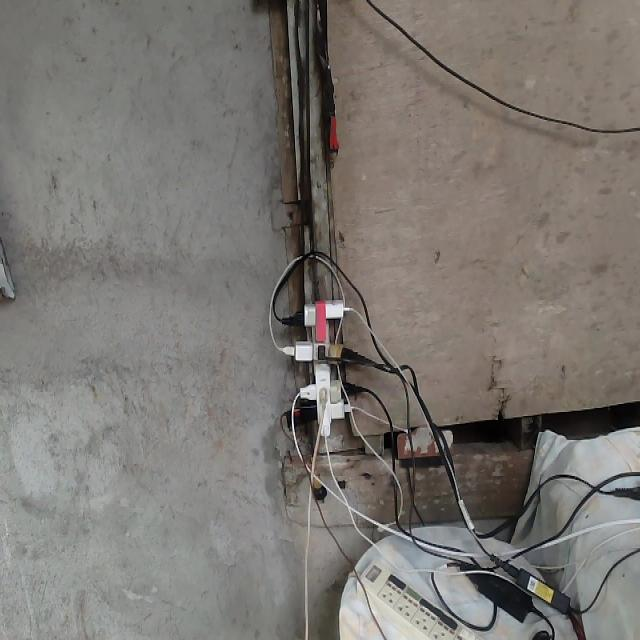-: (276, 300, 367, 437)
